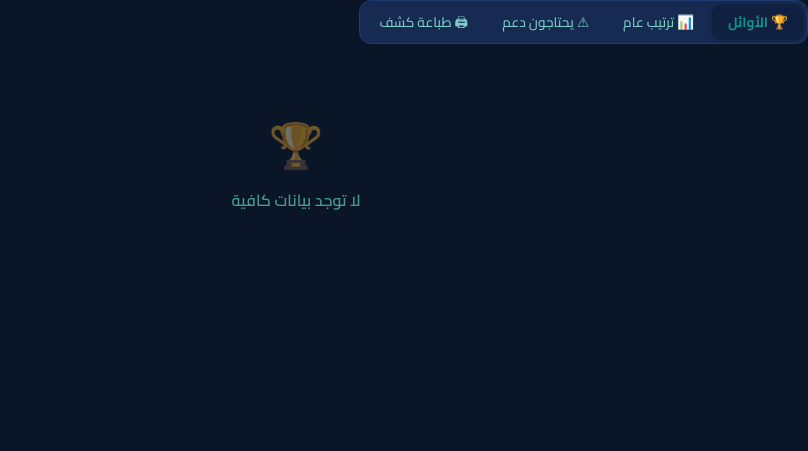
Test: ExamReports (print tab, "بالطالب" mode) — group-scoped student selector is now searchable › after picking the group, searching by partial Arabic name returns only that group's active students
The width and height of the screenshot is (808, 451).
Click the button "🖨 طباعة كشف" at point(424, 22), box [364, 4, 484, 40]
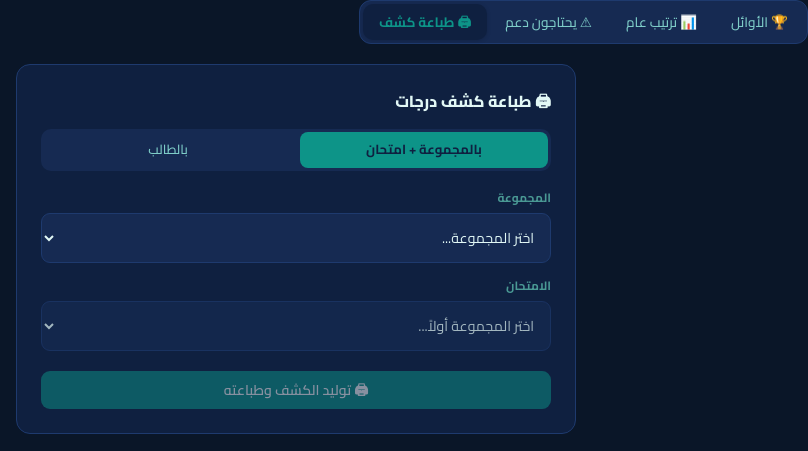
Click the button "بالطالب" at point(168, 150), box [44, 132, 292, 168]
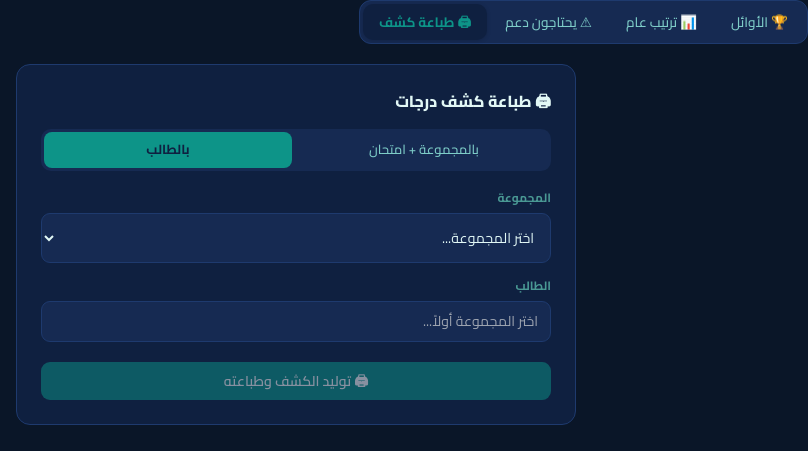
Select "مجموعة أ — الأول الثانوي" in the 1st dropdown at point(296, 238), box [41, 213, 551, 263]
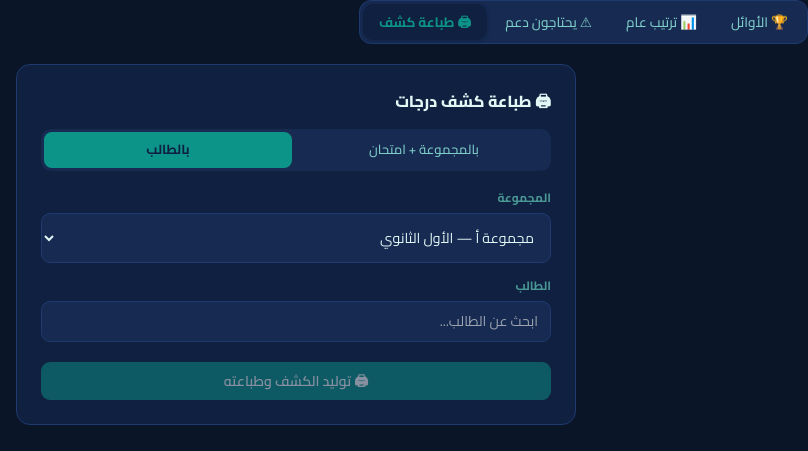
expect the dropdown with placeholder "ابحث عن الطالب..." is enabled: met
Type "أشرف" into the dropdown with placeholder "ابحث عن الطالب..." at point(296, 322), box [41, 301, 551, 342]
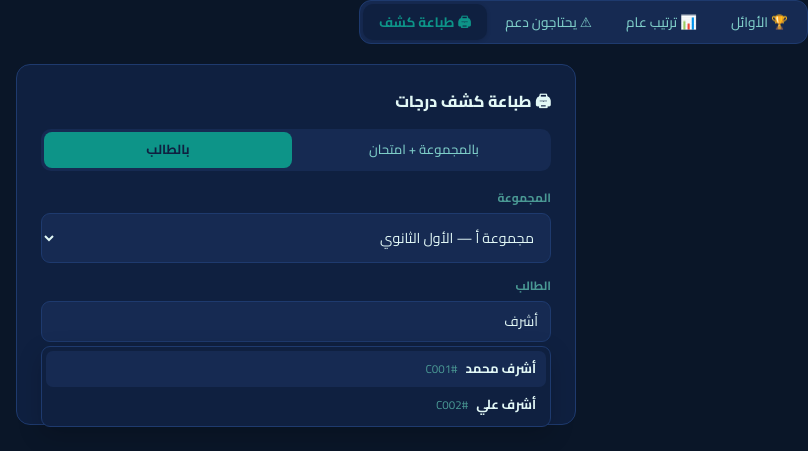
expect the number of options is 2: met, box [46, 351, 546, 387]; [436, 392, 536, 416]
expect the option "أشرف محمد #C001" is shown: met, box [46, 351, 546, 387]
expect the option "أشرف علي #C002" is shown: met, box [436, 392, 536, 416]
